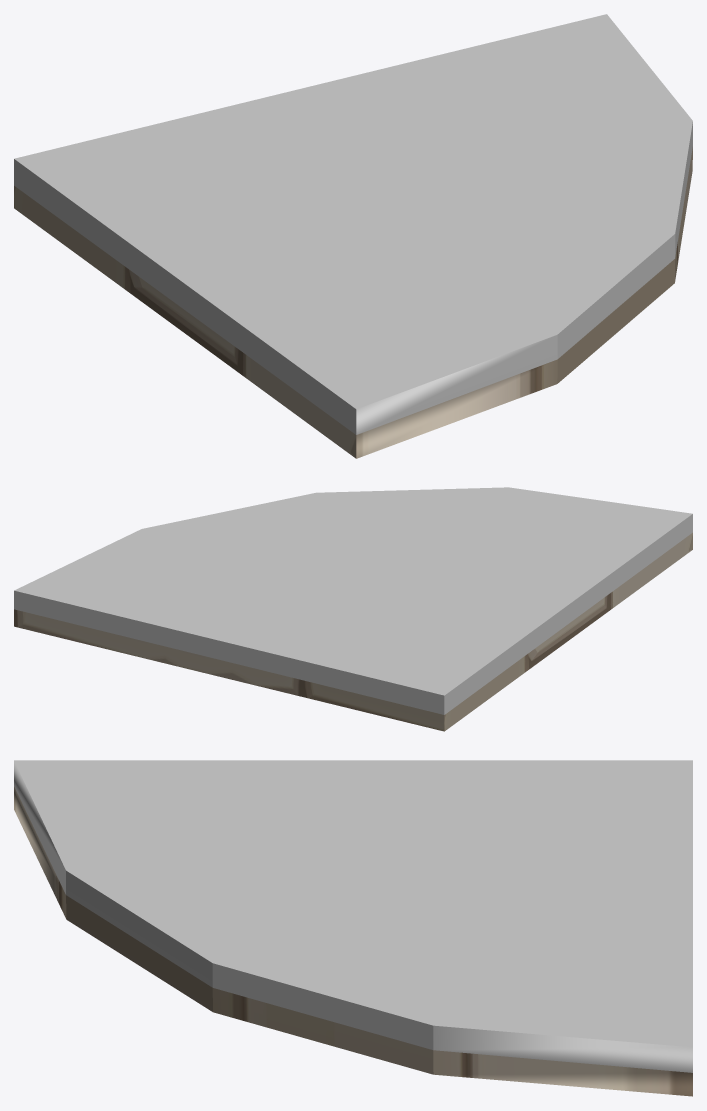
Rendered from SM_Bld_Floor_Round_Small_01.fbx.
3 views of the same model, one above another, from view 1: azimuth 30°, elevation 25°; view 2: azimuth 150°, elevation 25°; view 3: azimuth 270°, elevation 25° (orthographic). The views are drawn at different scales.
Visible parts, largest first — view 1: SM_Bld_Floor_Round_Small_01; view 2: SM_Bld_Floor_Round_Small_01; view 3: SM_Bld_Floor_Round_Small_01.
Boxes of the visible parts, x1,y1,x2,y2 form: SM_Bld_Floor_Round_Small_01: (14, 14, 692, 458); SM_Bld_Floor_Round_Small_01: (14, 487, 692, 731); SM_Bld_Floor_Round_Small_01: (14, 760, 692, 1096).
Bounding box in the file's own units: 126 × 10.06 × 126.
